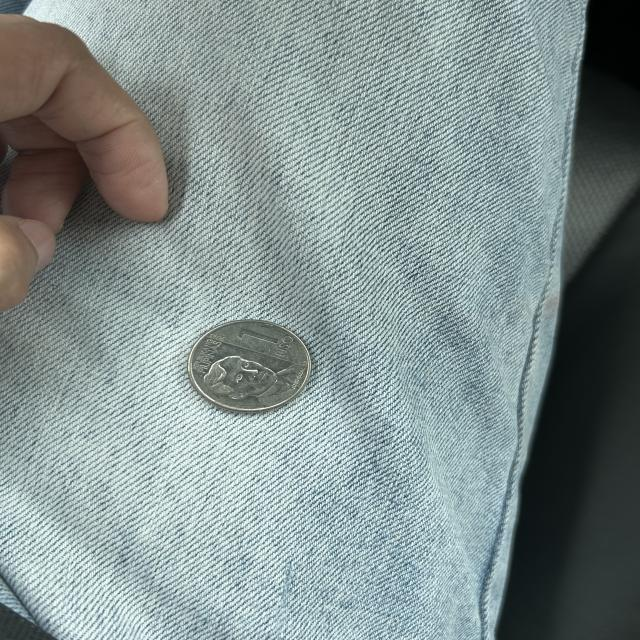1_New_Front: (233, 321, 300, 362)
